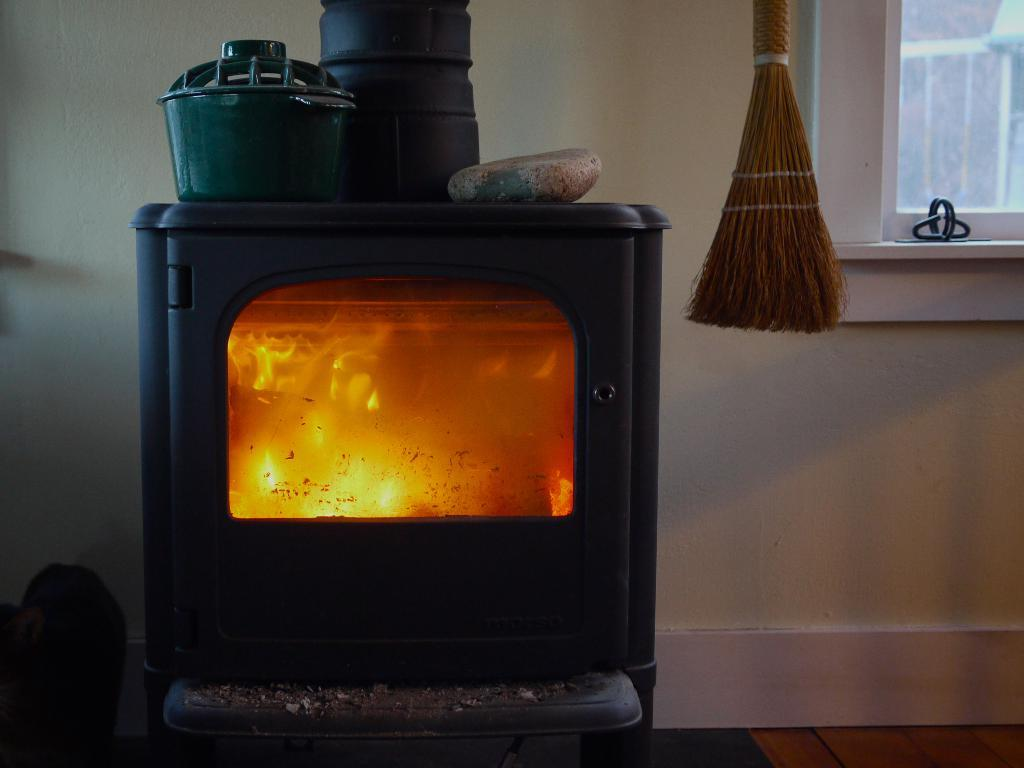Fire: (227, 282, 580, 518)
